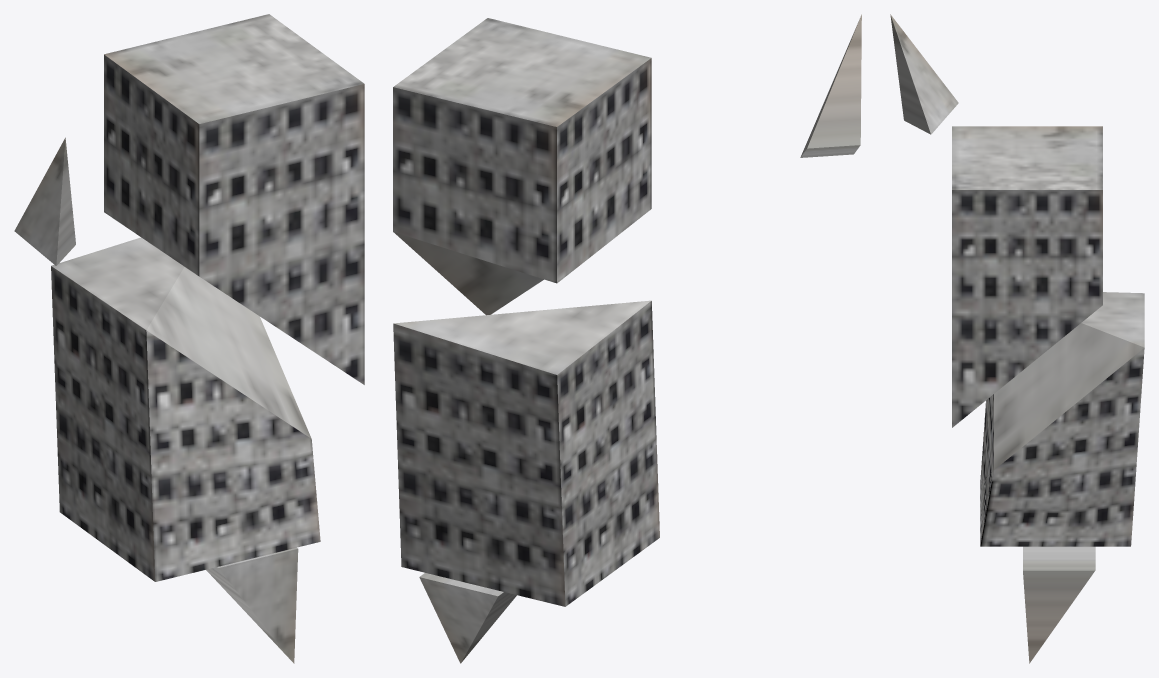
Rendered from Building4.fbx.
3 renders of one model, left to right at view 1: azimuth 30°, elevation 25°; view 2: azimuth 150°, elevation 25°; view 3: azimuth 270°, elevation 25°, orthographic. The views are drawn at different scales.
Visible parts, largest first — view 1: dressings_Cube_012; view 2: dressings_Cube_012; view 3: dressings_Cube_012.
Boxes of the visible parts, bbox=[...] form: dressings_Cube_012: bbox=[14, 14, 364, 663]; dressings_Cube_012: bbox=[393, 14, 861, 663]; dressings_Cube_012: bbox=[890, 14, 1144, 663].
Bounding box in the file's own units: 2643 × 4647 × 2029.
Materials: 1 (1 with a texture image).
